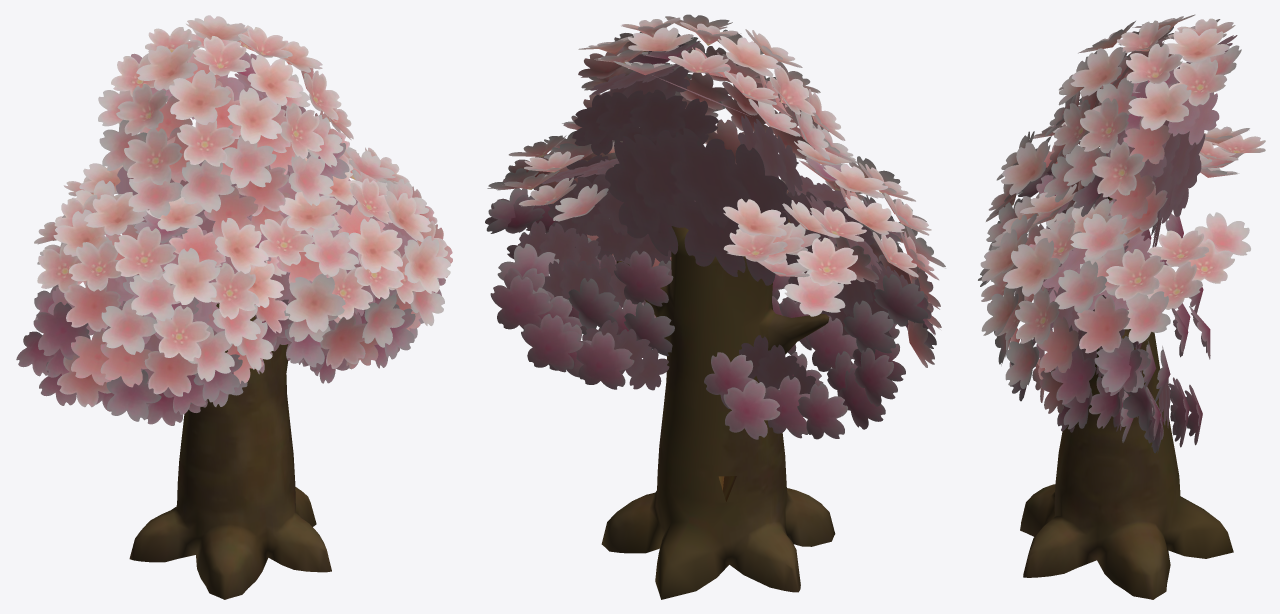
Rendered from oak-spring.glb.
3 renders of one model, left to right at view 1: azimuth 30°, elevation 25°; view 2: azimuth 150°, elevation 25°; view 3: azimuth 270°, elevation 25°, orthographic. The views are drawn at different scales.
Bounding box in the file's own units: 28.64 × 33.62 × 16.74.
3 materials, 3 textured.
